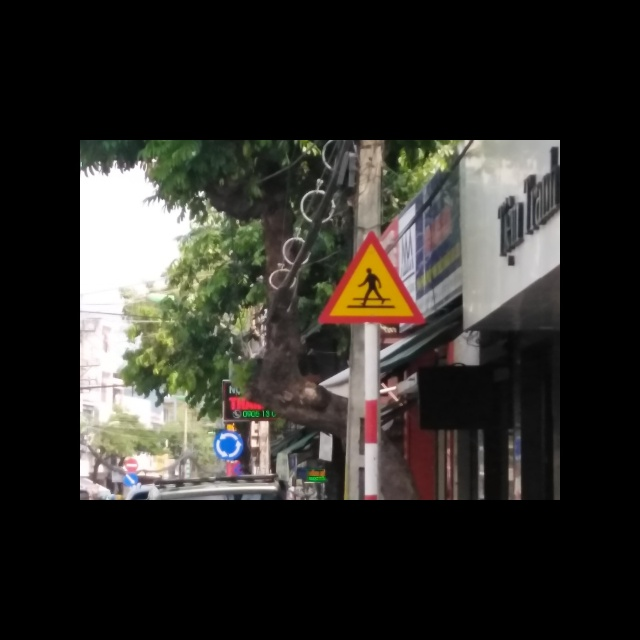Nơi giao nhau chạy theo vòng xuyến: (213, 432, 245, 461)
Đường người đi bộ sang đường: (318, 229, 425, 323)
